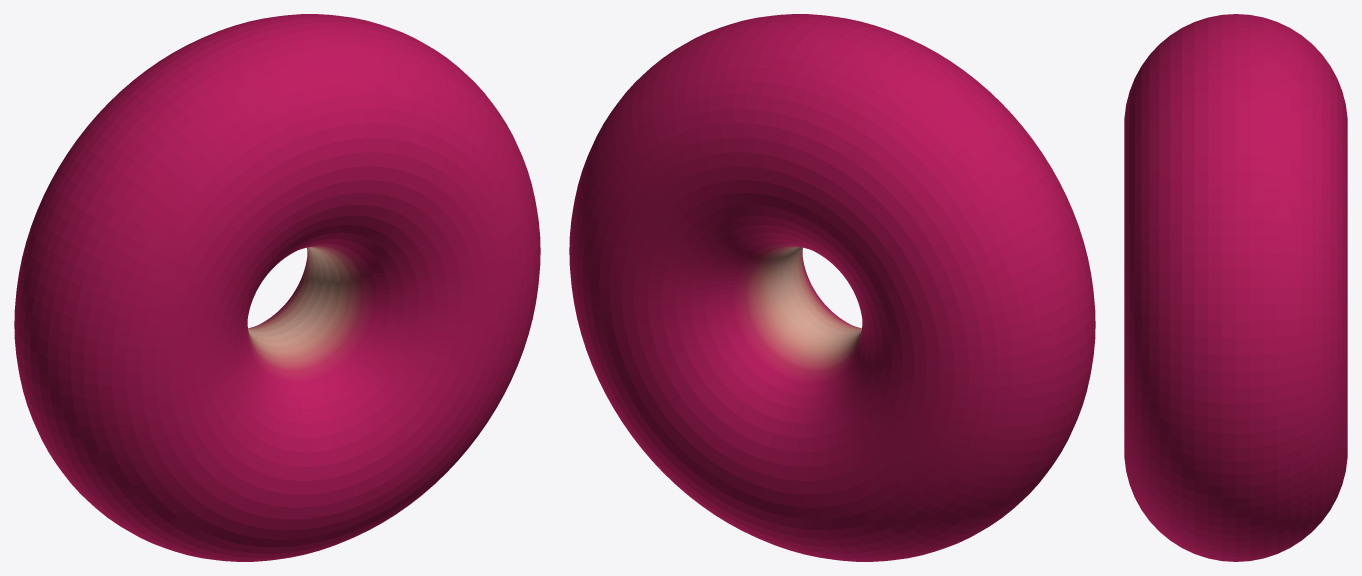
3 views of the same model, side by side, from view 1: azimuth 30°, elevation 25°; view 2: azimuth 150°, elevation 25°; view 3: azimuth 270°, elevation 25° (orthographic). The views are drawn at different scales.
Visible parts, largest first — view 1: world; view 2: world; view 3: world.
Part boxes in pixels (left/top/right/bottom): world: left=14, top=14, right=540, bottom=561; world: left=569, top=14, right=1095, bottom=561; world: left=1124, top=14, right=1347, bottom=561.
Size of the model in its own units: 22.53 by 22.53 by 9.18.
